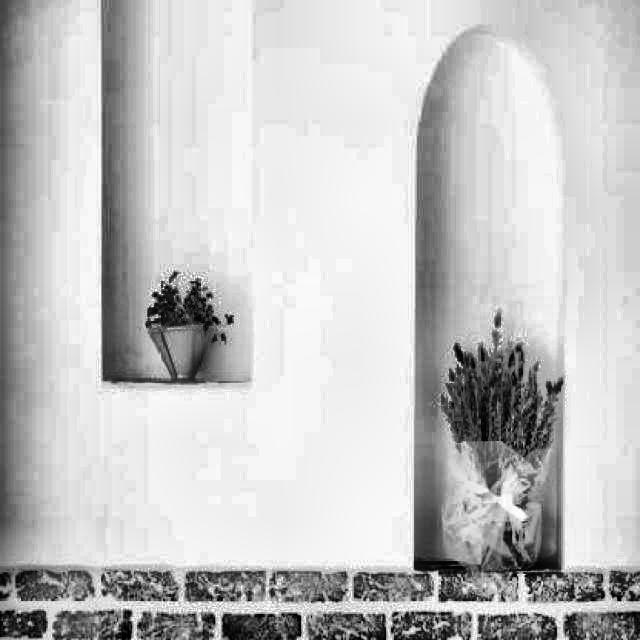plants: (150, 277, 216, 386)
